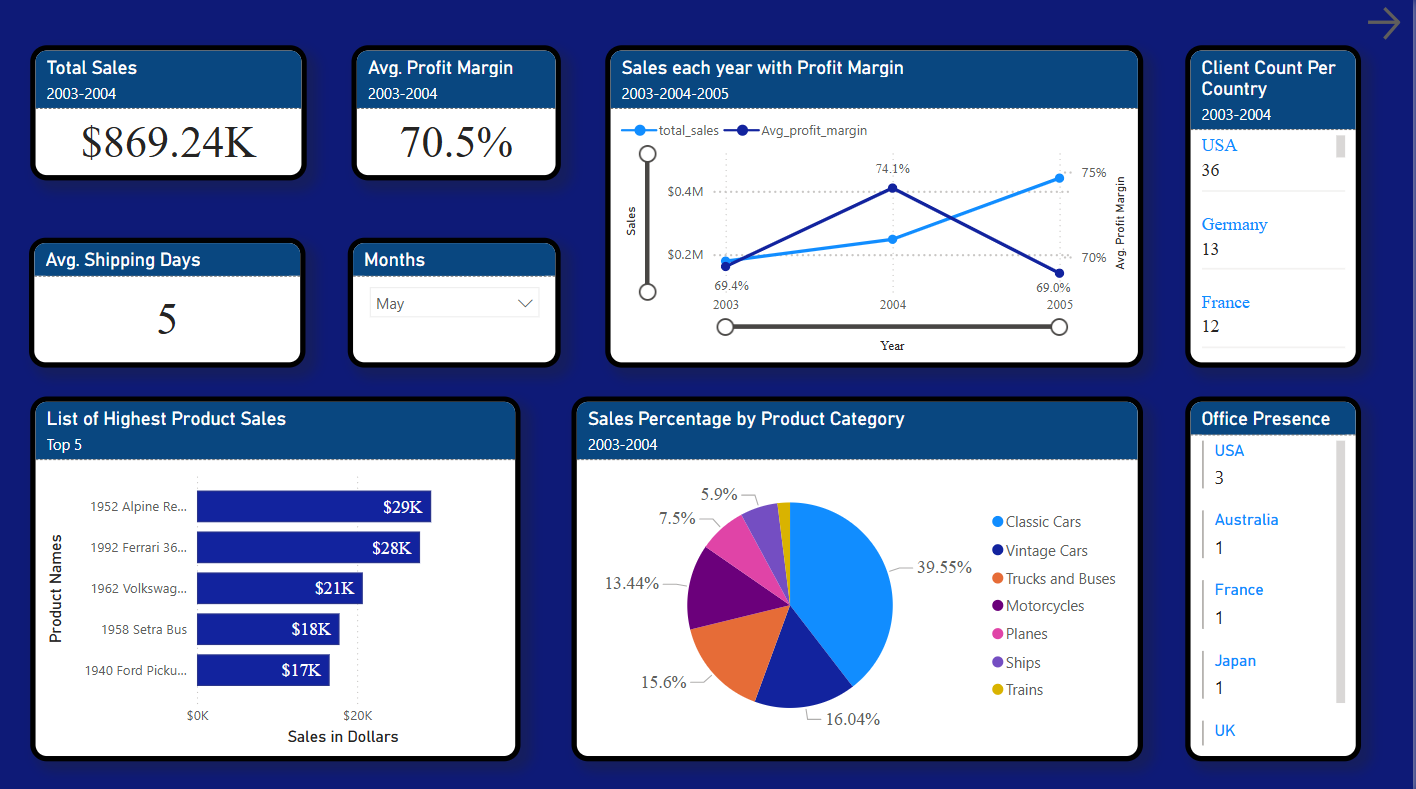

The page's visual inventory and layout, read from the dashboard file:
{"tool":"powerbi","page":{"name":"Page 1","canvas":[1280,720],"ordinal":0},"visuals":[{"type":"barChart","title":"List of Highest Product Sales","fields":{"Y":["order_details.total_sales"],"Category":["products.productName"]},"box":[27.9,360.5,444.2,330.2],"z":0},{"type":"card","title":"Total Sales","fields":{"Values":["order_details.total_sales"]},"box":[27.9,41.9,250,122.1],"z":1000},{"type":"card","title":"Avg. Profit Margin","fields":{"Values":["order_details.Avg_profit_margin"]},"box":[319.8,41.9,189.5,122.1],"z":2000},{"type":"pieChart","title":"Sales Percentage by Product Category","fields":{"Y":["order_details.total_sales"],"Category":["products.productLine"]},"box":[518.6,360.5,517.4,330],"z":3000},{"type":"lineChart","title":"Sales each year with Profit Margin","fields":{"Category":["orders.Order_year"],"Y":["order_details.total_sales"],"Y2":["order_details.Avg_profit_margin"]},"box":[548.8,41.9,487.2,291.9],"z":4000},{"type":"slicer","title":"Months","fields":{"Values":["orders.Order_date Month Name"]},"box":[316.3,216.3,193,117.4],"z":5000},{"type":"multiRowCard","title":"Office Presence","fields":{"Values":["offices.officeCode","offices.country"]},"box":[1074.4,360.5,159.3,330.2],"z":6000},{"type":"card","title":"Avg. Shipping Days","fields":{"Values":["orders.AVG_Shipping_days"]},"box":[26.7,216.3,250,117.4],"z":7000},{"type":"multiRowCard","title":"Client Count  Per Country","fields":{"Values":["customers.customerNumber","customers.country"]},"box":[1074.4,41.9,159.3,291.9],"z":8000},{"type":"actionButton","box":[1233.7,2.3,44.2,39.5],"z":9000}]}

Visuals, with their boxes in screenshot pixels (x1, y1, x2, y2), scaled from the page's 1280x720 canvas onto the 1416x789 screenshot:
"List of Highest Product Sales" barChart: bbox=(31, 395, 522, 757)
"Total Sales" card: bbox=(31, 46, 307, 180)
"Avg. Profit Margin" card: bbox=(354, 46, 563, 180)
"Sales Percentage by Product Category" pieChart: bbox=(574, 395, 1146, 757)
"Sales each year with Profit Margin" lineChart: bbox=(607, 46, 1146, 366)
"Months" slicer: bbox=(350, 237, 563, 366)
"Office Presence" multiRowCard: bbox=(1189, 395, 1365, 757)
"Avg. Shipping Days" card: bbox=(30, 237, 306, 366)
"Client Count  Per Country" multiRowCard: bbox=(1189, 46, 1365, 366)
actionButton: bbox=(1365, 3, 1414, 46)
